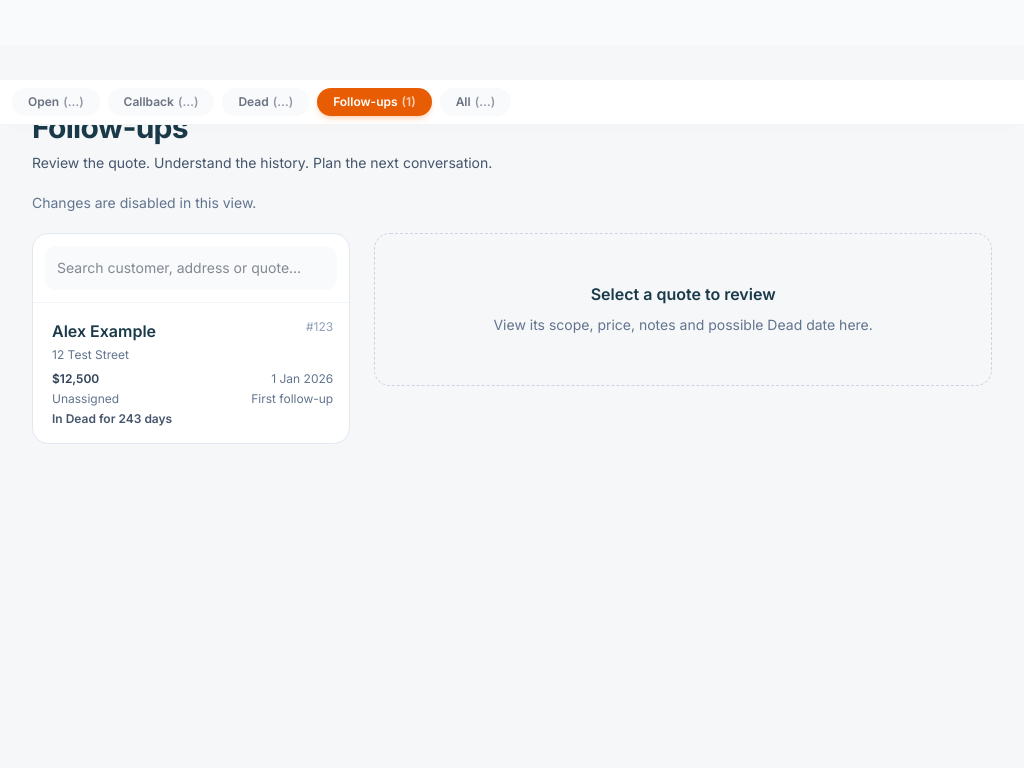
shows scope and price without the removed explanation panels
Click the button "Alex Example": click(104, 331) left=33, top=303, right=349, bottom=443
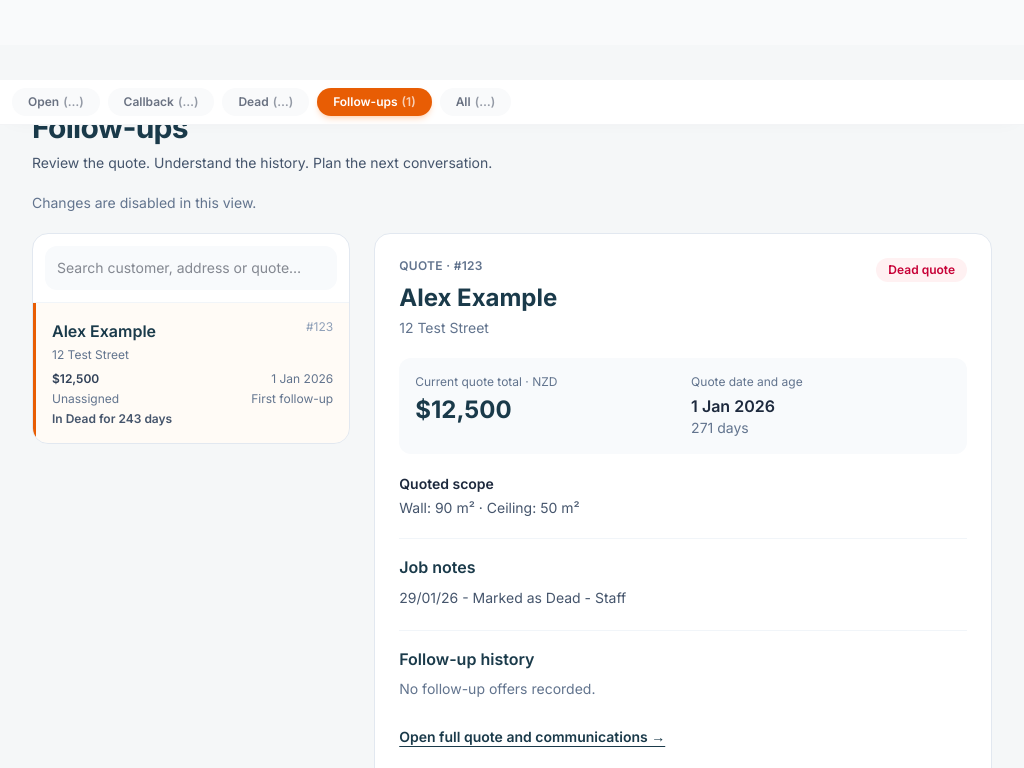
Expected: the 1st text "$12,500" is shown, left=52, top=371, right=99, bottom=386
Now the text "Wall: 90 m²" is shown, box left=399, top=499, right=475, bottom=516
